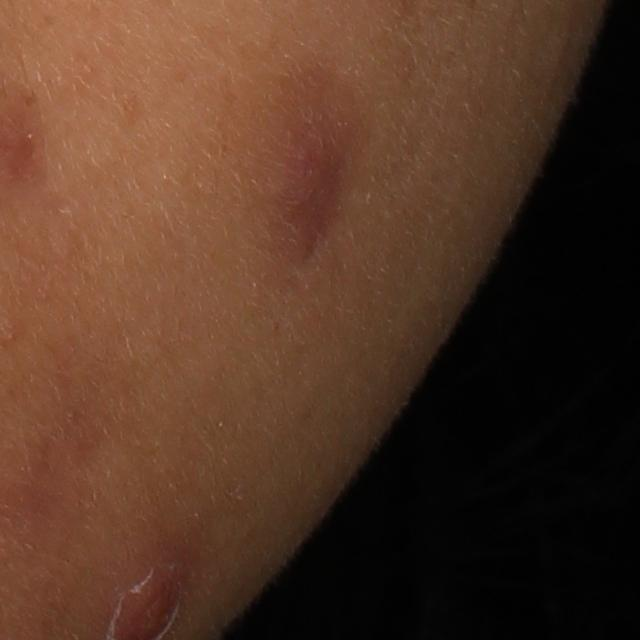comedo: (3, 327, 18, 346)
nodule: (282, 116, 342, 260)
